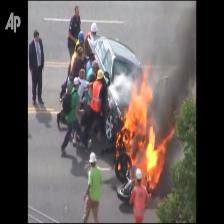fire: (117, 59, 175, 190)
